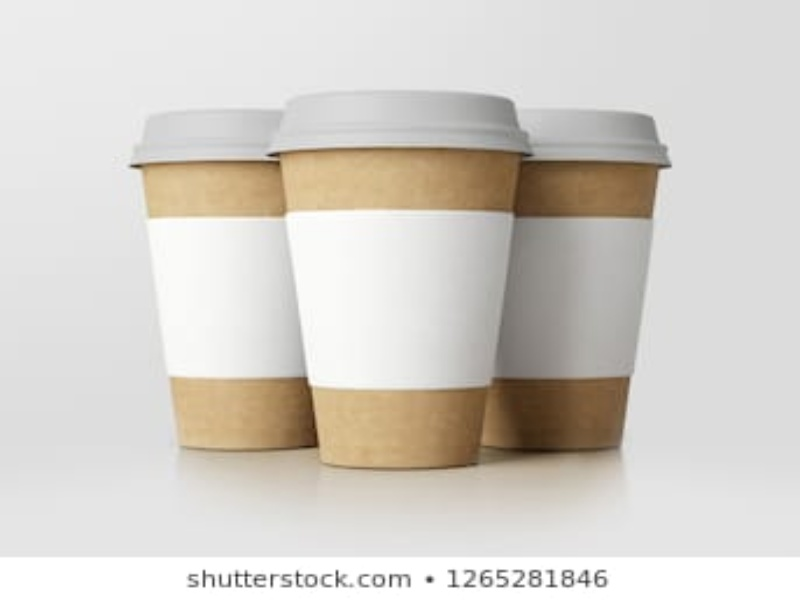coffee-lid: (275, 93, 534, 155), (127, 109, 285, 167), (514, 107, 671, 163)
